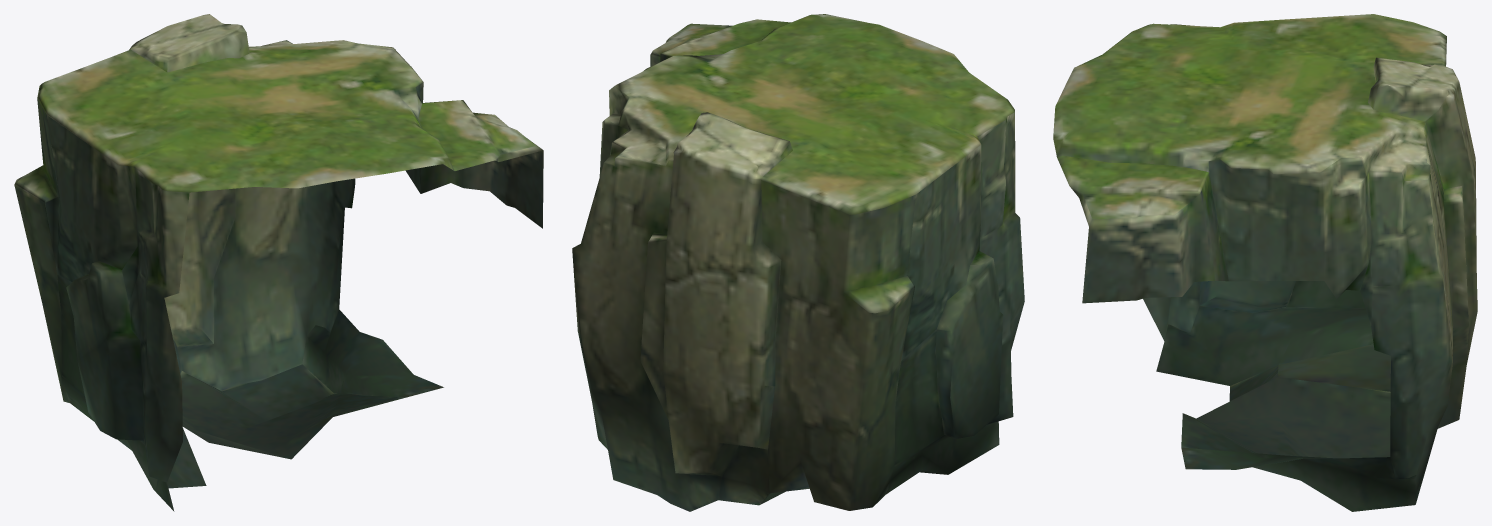
File: S_Rock_Green054_2.fbx
3 renders of one model, left to right at view 1: azimuth 30°, elevation 25°; view 2: azimuth 150°, elevation 25°; view 3: azimuth 270°, elevation 25°, orthographic. The views are drawn at different scales.
Parts seen in each view (by area): view 1: S_Rock_Green054_2; view 2: S_Rock_Green054_2; view 3: S_Rock_Green054_2.
Boxes of the visible parts, x1,y1,x2,y2 form: S_Rock_Green054_2: [14, 14, 543, 511]; S_Rock_Green054_2: [572, 14, 1024, 511]; S_Rock_Green054_2: [1053, 14, 1477, 511].
Bounding box in the file's own units: 1656 × 1615 × 1571.
Materials: 1 (1 with a texture image).
